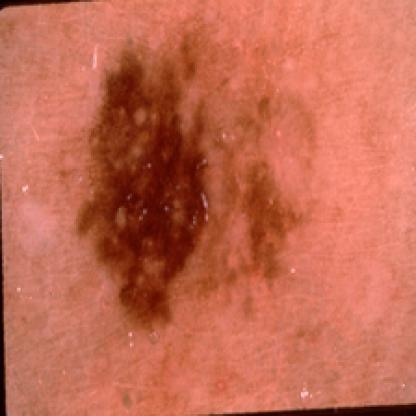malignant: (82, 50, 215, 294)
